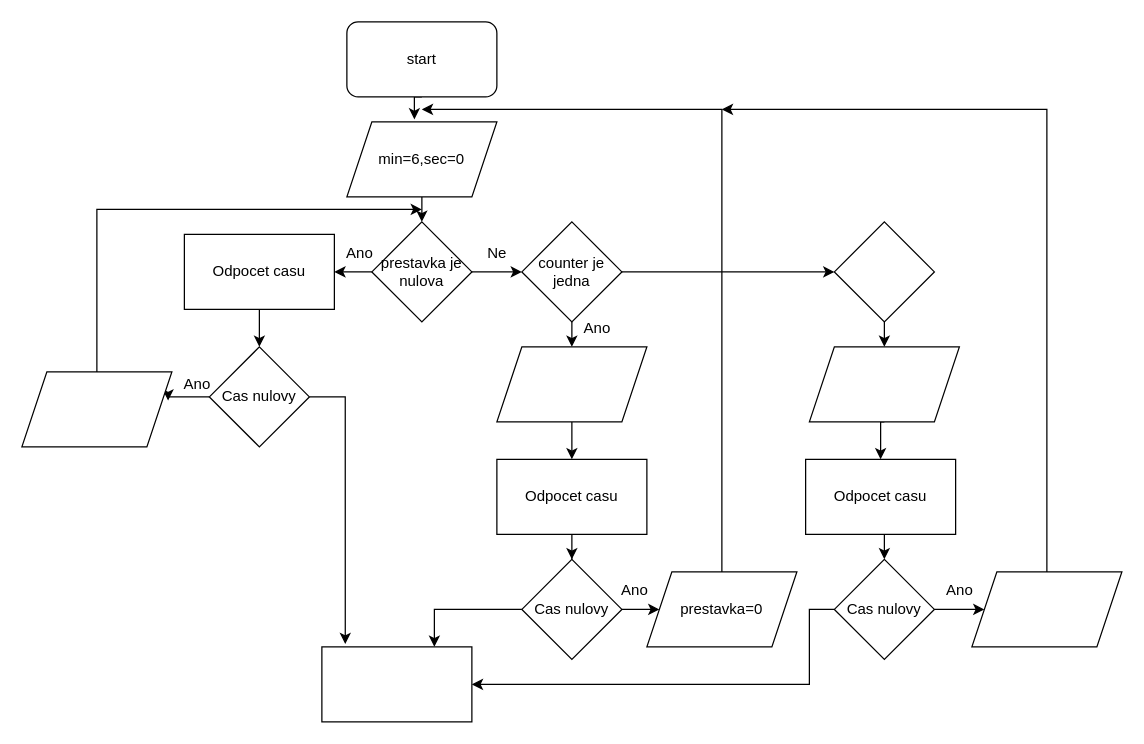
Some shapes in this 1144 by 744 pixel diagram are drawn without their labels. Here are the shapes that lost their labels. From the top down, the centre of each, then its label:
the point at 883,271: counter je tri
the point at 571,384: min=5,sec=0
the point at 883,384: min=15,sec=0
the point at 96,409: prestavka++ robota_counter++ counter++
the point at 1046,609: prestavka=0 robota_counter=0 counter=0
the point at 396,684: opravit kod
